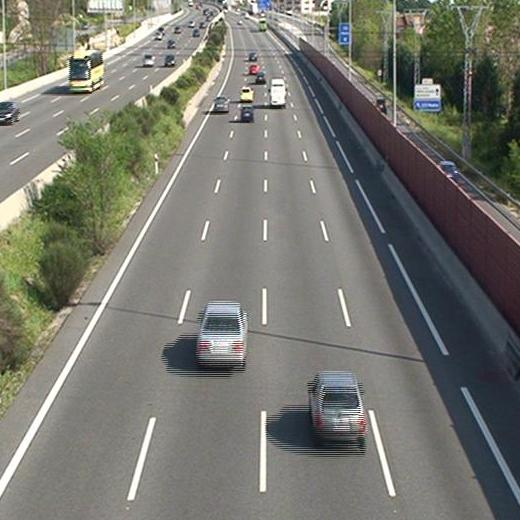car: (310, 374, 366, 437), (196, 303, 245, 362), (213, 96, 229, 111), (241, 106, 253, 121), (240, 87, 253, 100), (254, 72, 264, 82), (249, 63, 258, 72), (247, 52, 256, 59)
van: (269, 79, 286, 106)
